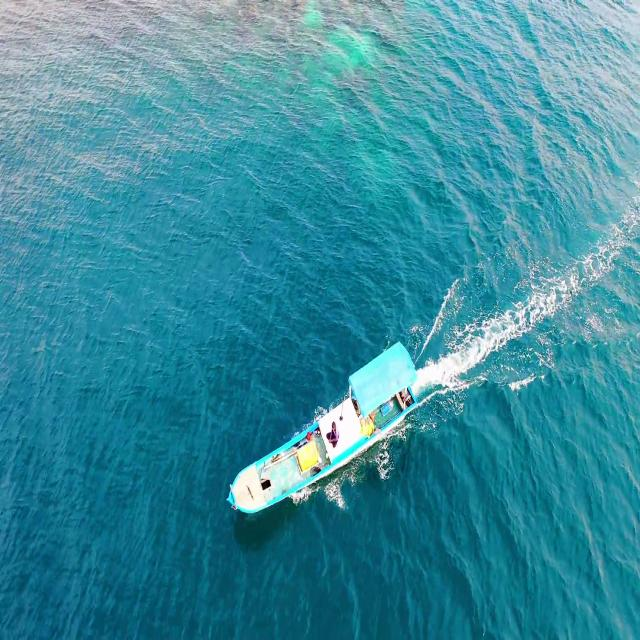ship: (222, 336, 422, 528)
